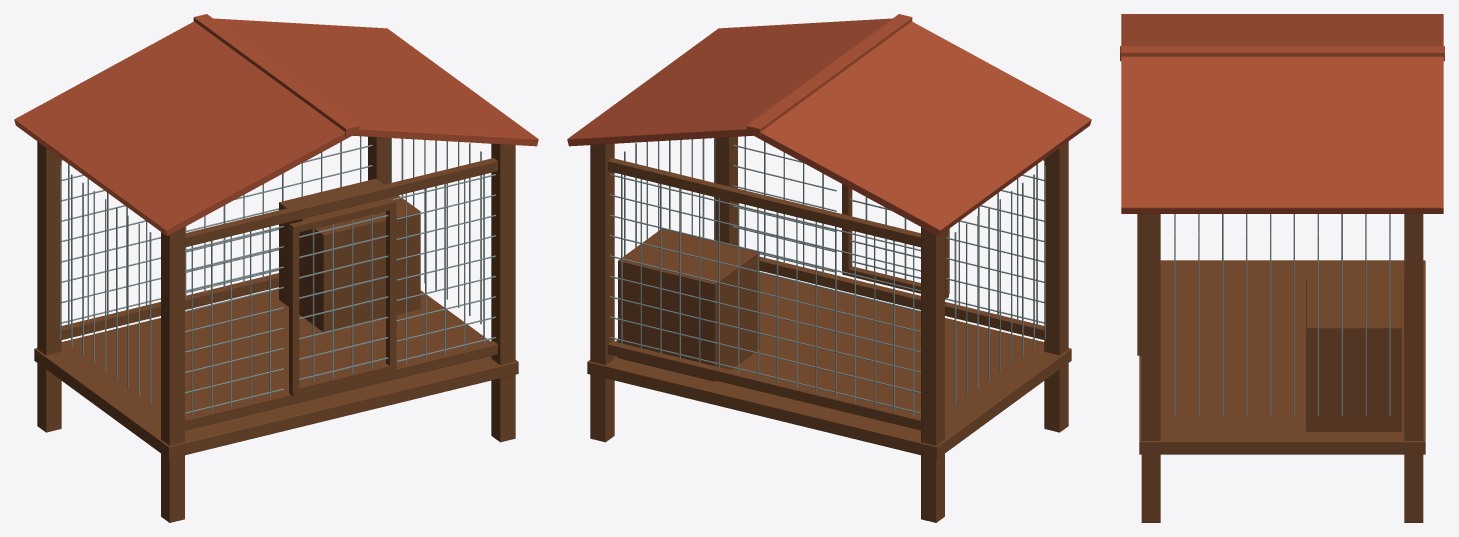
The model's file is village-chicken-coop.glb.
3 views of the same model, side by side, from view 1: azimuth 30°, elevation 25°; view 2: azimuth 150°, elevation 25°; view 3: azimuth 270°, elevation 25° (orthographic). The views are drawn at different scales.
Visible parts, largest first — view 1: Roof, Raised_Floor, Roof.001, Nesting_Box, Post.002, Post, Post.001, Rail.002, Rail, Ridge_Cap, Rail.001, Door_Stile (+4 smaller); view 2: Roof, Raised_Floor, Roof.001, Nesting_Box, Post.003, Post.001, Post, Rail.003, Rail.001, Rail, Ridge_Cap, Post.002 (+11 smaller); view 3: Roof.001, Raised_Floor, Nesting_Box, Roof, Post.002, Post.003, Ridge_Cap, Door_Stile.001.
Boxes of the visible parts, x1,y1,x2,y2 form: Roof: (14, 21, 351, 236); Raised_Floor: (34, 289, 518, 458); Roof.001: (213, 18, 538, 146); Nesting_Box: (279, 178, 420, 332); Post.002: (491, 143, 515, 442); Post: (161, 227, 184, 522); Post.001: (37, 141, 61, 432); Rail.002: (185, 158, 497, 247); Rail: (185, 341, 497, 430); Ridge_Cap: (193, 14, 359, 136); Rail.001: (61, 273, 278, 339); Door_Stile: (289, 227, 299, 392); Roof: (754, 21, 1091, 236); Raised_Floor: (587, 273, 1071, 458); Roof.001: (567, 18, 892, 146); Nesting_Box: (618, 229, 759, 381); Post.003: (590, 143, 614, 442); Post.001: (921, 227, 944, 522); Post: (1044, 141, 1068, 432); Rail.003: (608, 158, 920, 247); Rail.001: (608, 341, 920, 430); Rail: (759, 256, 1044, 339); Ridge_Cap: (746, 14, 912, 136); Post.002: (715, 136, 737, 245); Roof.001: (1121, 56, 1443, 213); Raised_Floor: (1139, 260, 1425, 454); Nesting_Box: (1306, 277, 1401, 431); Roof: (1121, 14, 1443, 45); Post.002: (1141, 214, 1160, 522); Post.003: (1404, 214, 1423, 522); Ridge_Cap: (1120, 46, 1444, 61); Door_Stile.001: (1137, 214, 1141, 351).
Bounding box in the file's own units: 1.92 × 1.77 × 1.36.
